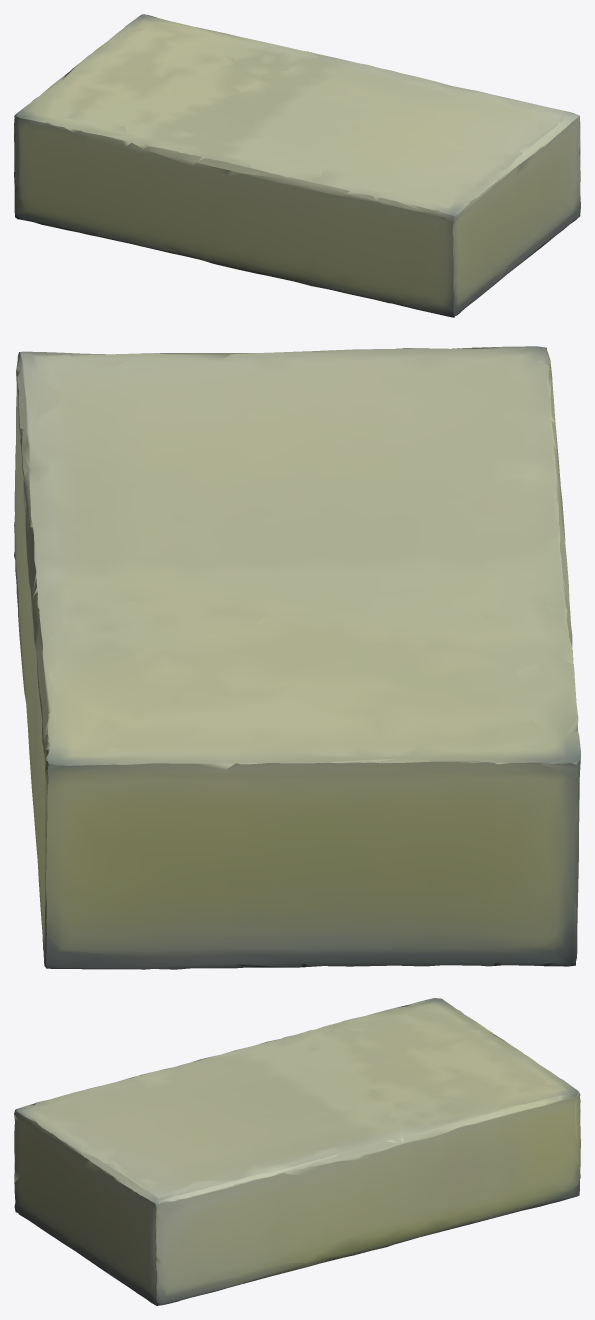
The model's file is 0006_mask_007_yellow_sponge.glb.
3 views of the same model, one above another, from view 1: azimuth 30°, elevation 25°; view 2: azimuth 150°, elevation 25°; view 3: azimuth 270°, elevation 25° (orthographic). The views are drawn at different scales.
Visible parts, largest first — view 1: mask_007_object; view 2: mask_007_object; view 3: mask_007_object.
Boxes of the visible parts, x1,y1,x2,y2 form: mask_007_object: [14, 14, 580, 317]; mask_007_object: [14, 346, 580, 969]; mask_007_object: [14, 998, 580, 1305].
Bounding box in the file's own units: 0.1304 × 0.0318 × 0.1501.
